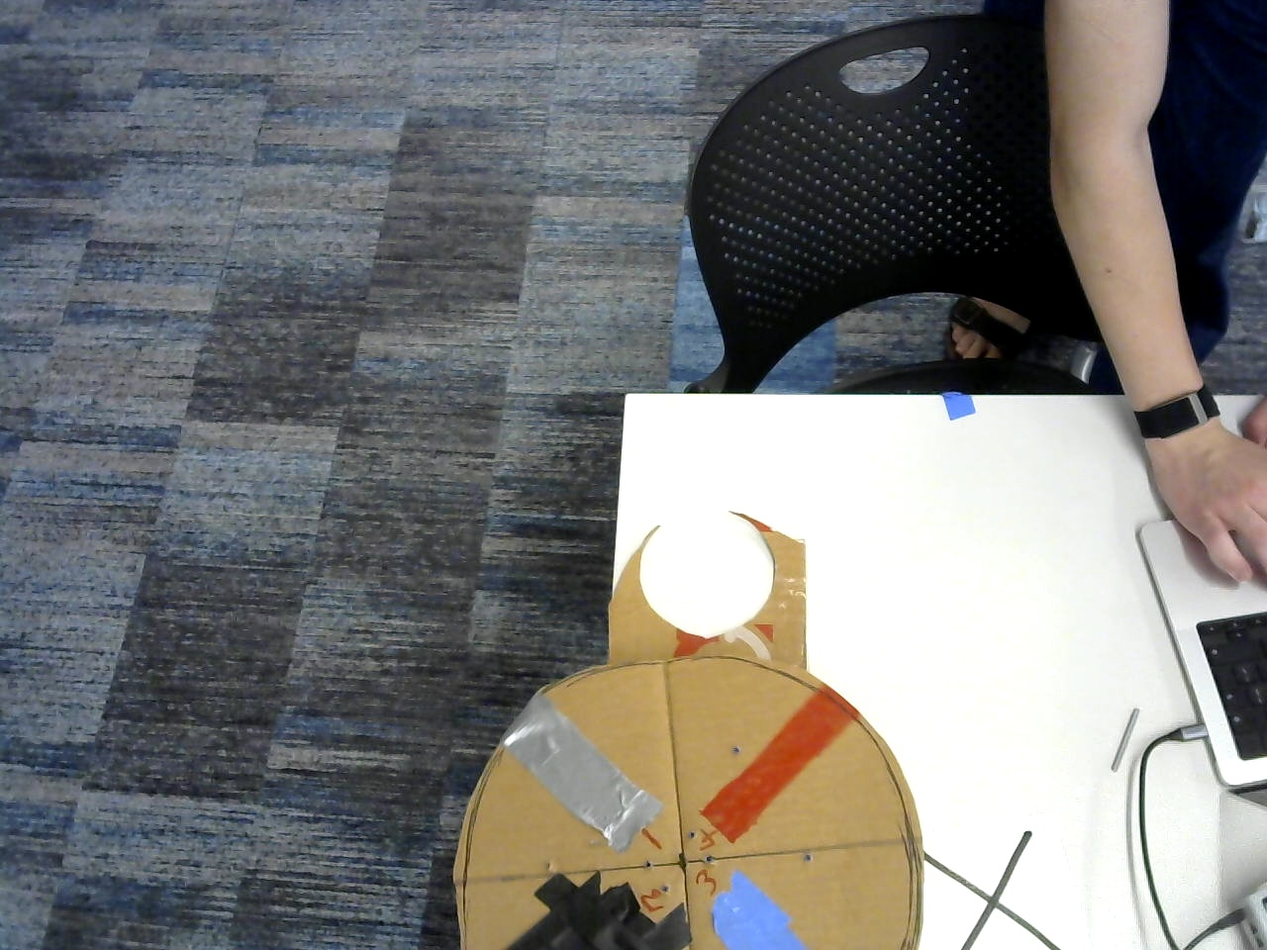black: (1203, 607, 1267, 759)
blue: (709, 873, 866, 950)
red: (699, 690, 857, 842)
silver: (503, 693, 663, 852)
x: (928, 832, 1049, 950)
